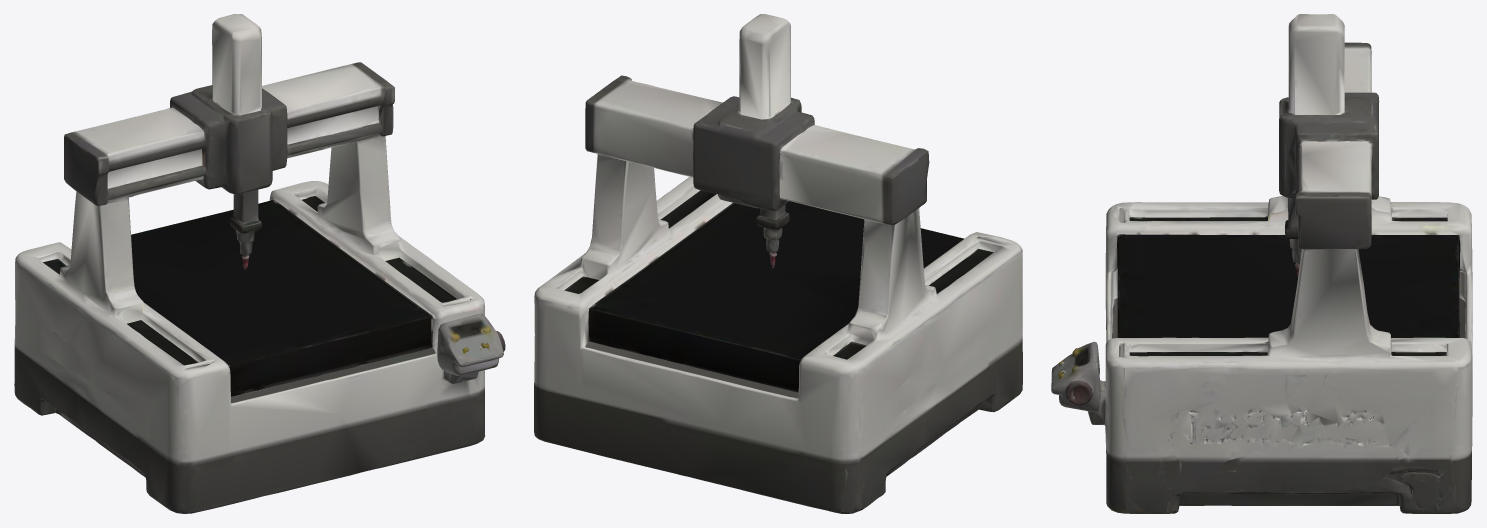
Rendered from coordinate_measuring_machine.glb.
The picture shows the model from 3 angles, left to right: view 1: azimuth 30°, elevation 25°; view 2: azimuth 150°, elevation 25°; view 3: azimuth 270°, elevation 25°; orthographic projection. The views are drawn at different scales.
Visible parts, largest first — view 1: geometry_0; view 2: geometry_0; view 3: geometry_0.
Part boxes in pixels (<box>): geometry_0: <box>14,14,505,513</box>; geometry_0: <box>534,14,1022,513</box>; geometry_0: <box>1051,14,1472,513</box>.
Size of the model in its own units: 0.8595 by 1 by 0.9292.
Materials: 1 (1 with a texture image).
